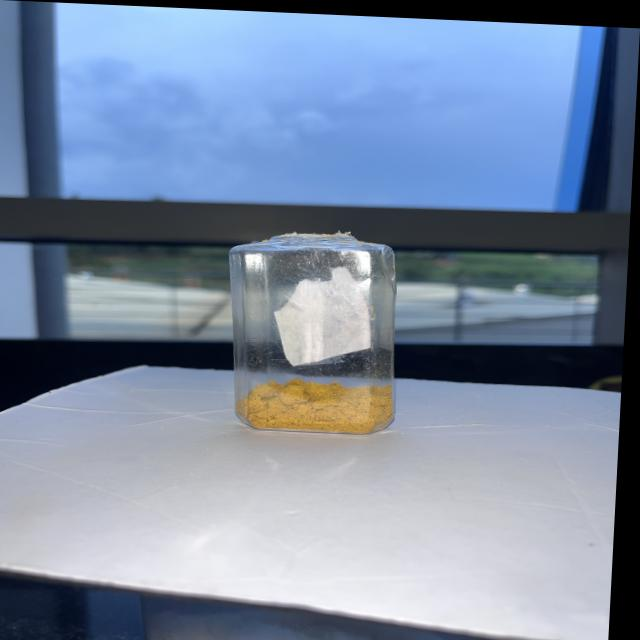curry_powder: (245, 373, 401, 433)
